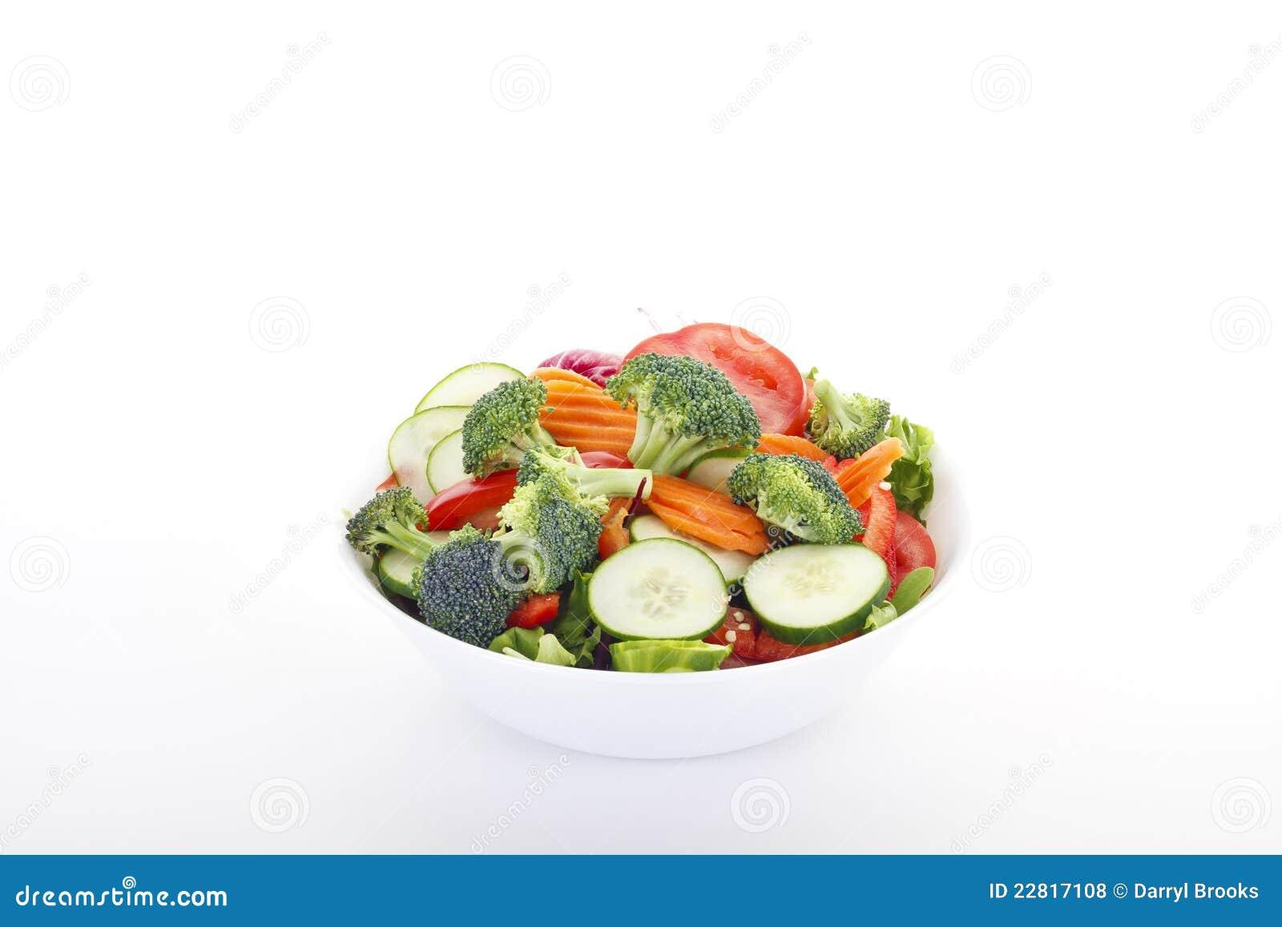brocolli: (444, 393, 617, 583), (606, 353, 756, 484)
cucumber: (588, 521, 738, 642)
